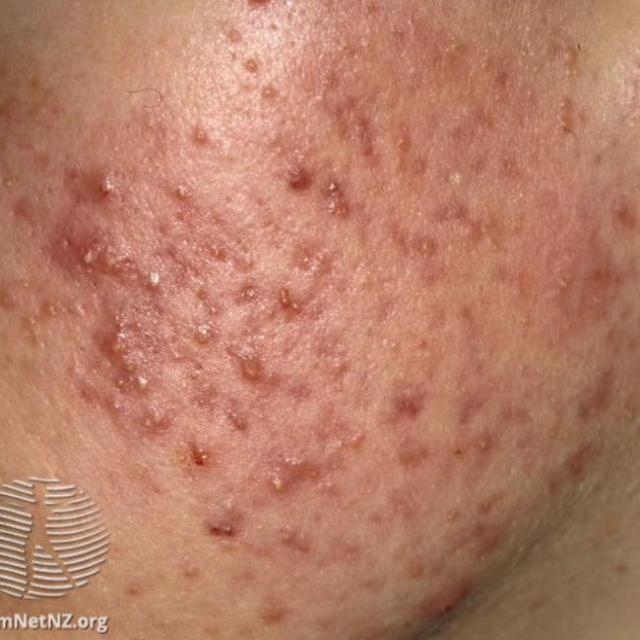8: (77, 162, 121, 214), (237, 338, 265, 400)
9: (144, 393, 184, 445), (171, 313, 218, 355), (266, 467, 303, 505)
blackheads: (424, 520, 536, 562), (67, 231, 154, 281), (337, 80, 386, 158), (304, 167, 362, 227), (382, 368, 432, 434), (103, 326, 144, 401), (387, 234, 447, 266)
